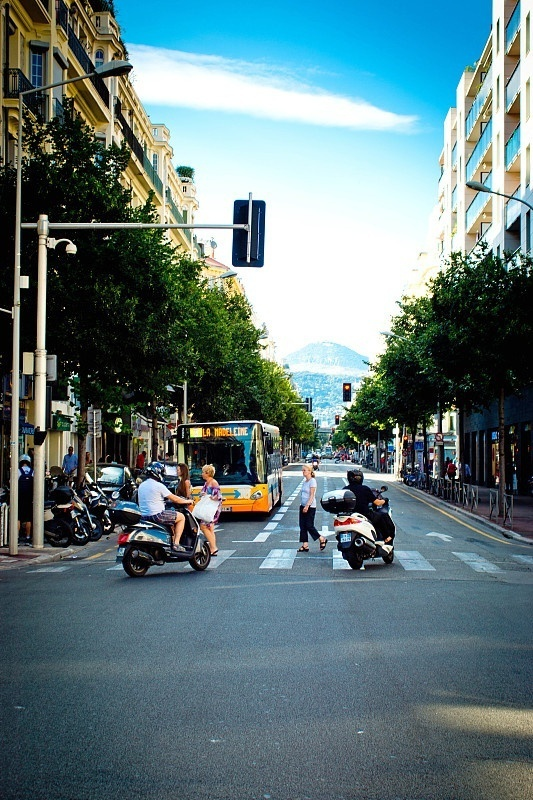non-vehicle: (111, 500, 214, 575), (330, 501, 395, 567), (43, 475, 95, 544)
